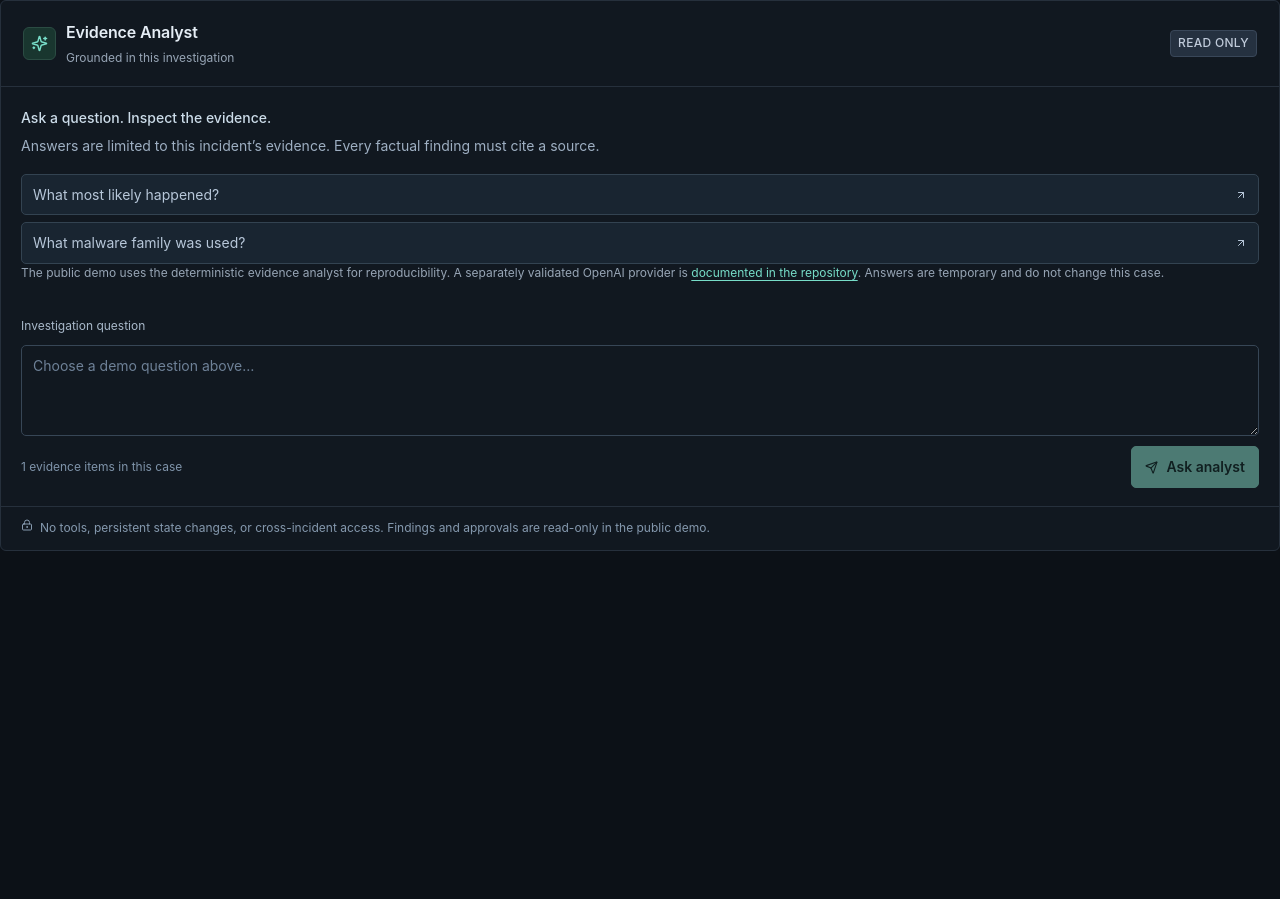
Test: offers curated deterministic questions and citations without a persistent finding action or refresh
Expected: the text "public demo uses the deterministic evidence analyst" is shown, [21,265,688,280]
Step 1. Click the button "What most likely happened?" → click(126, 194), box [21,174,1259,216]
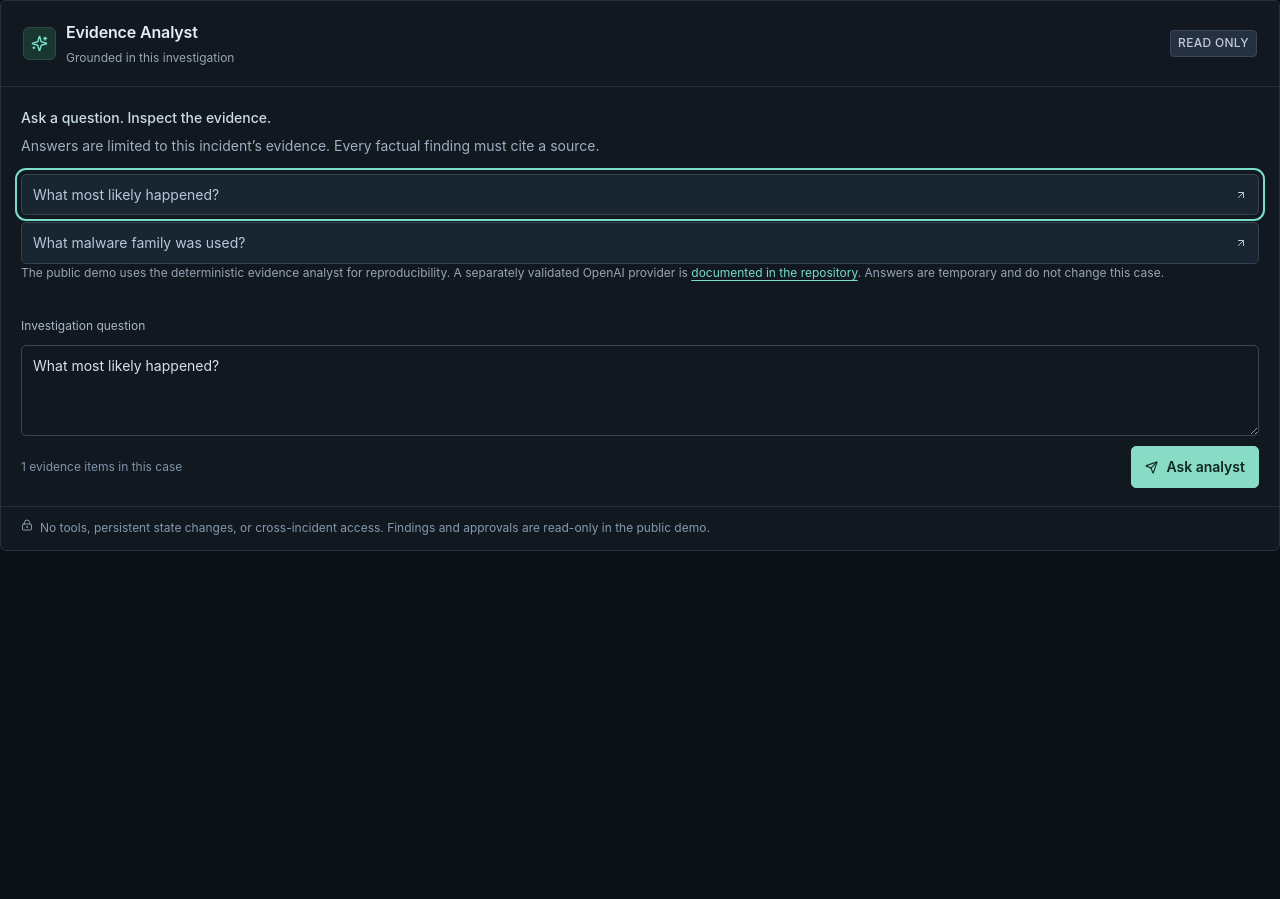
Step 2. Click the button "Ask analyst" → click(1195, 467), box [1131,446,1259,488]
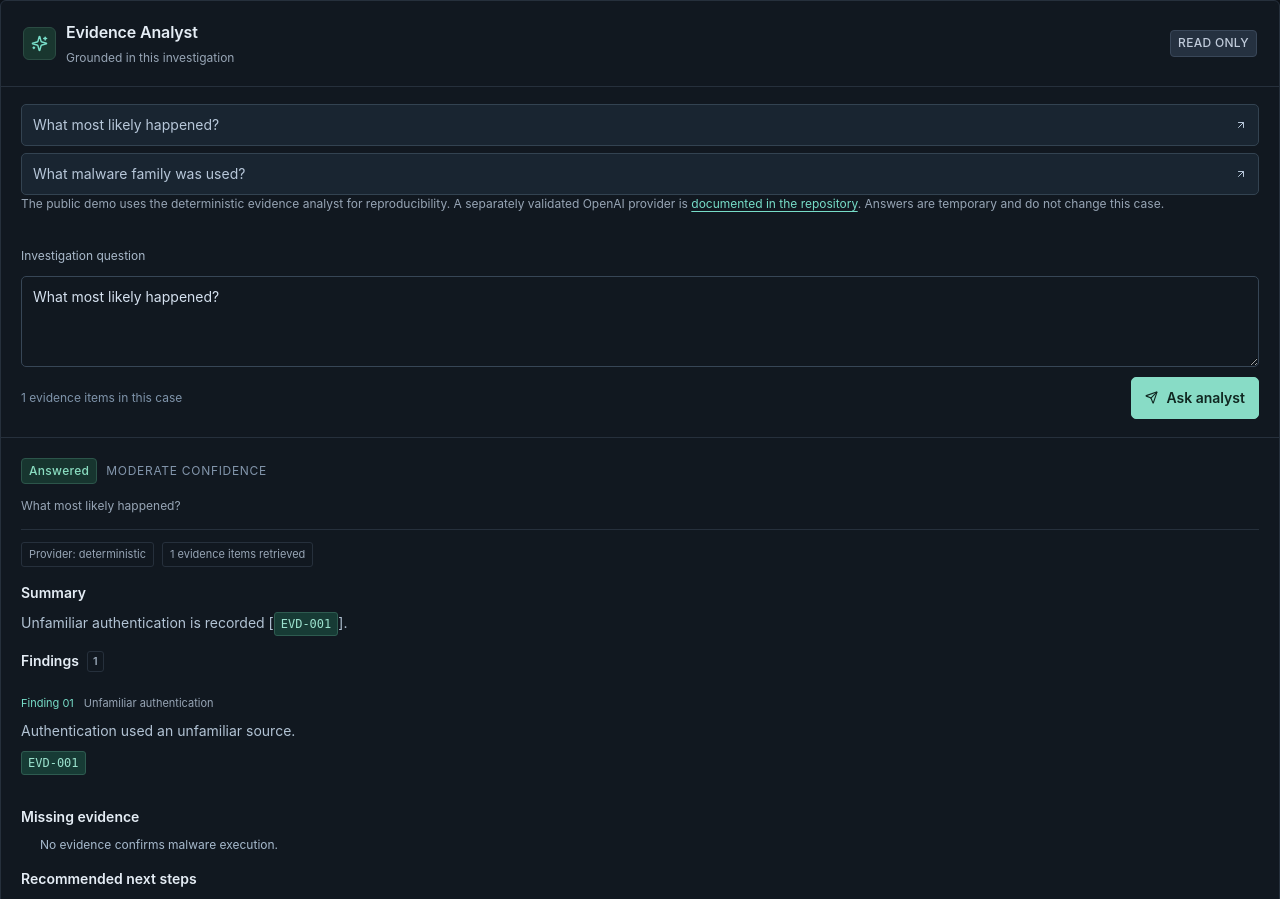
Expected: the text "Authentication used an unfamiliar source." is shown, [21,722,295,739]
Step 3. Click the button with aria-label "Inspect evidence EVD-001" → click(306, 624), box [274,612,338,636]
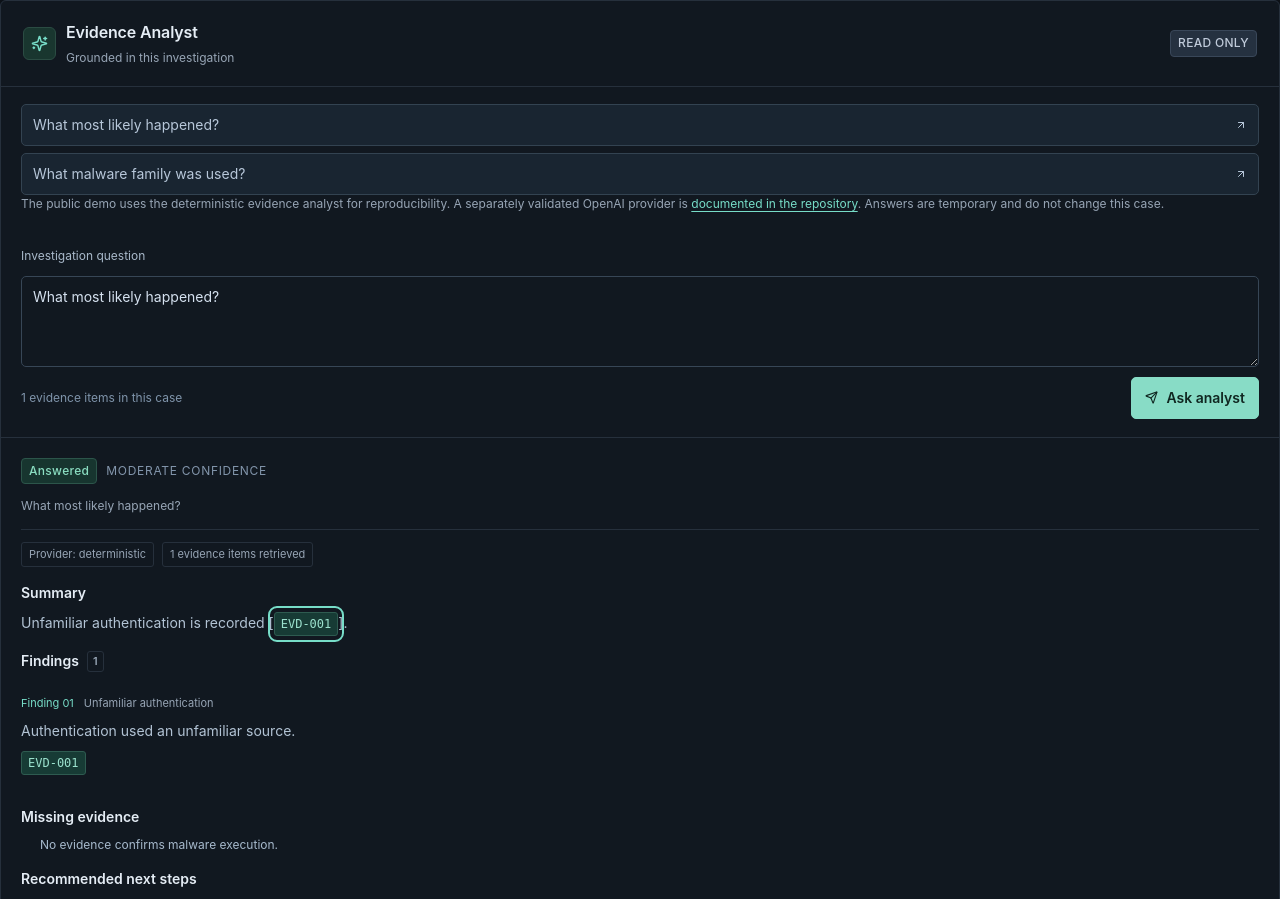
Step 4. Click the button "What malware family was used?" → click(139, 174), box [21,153,1259,195]
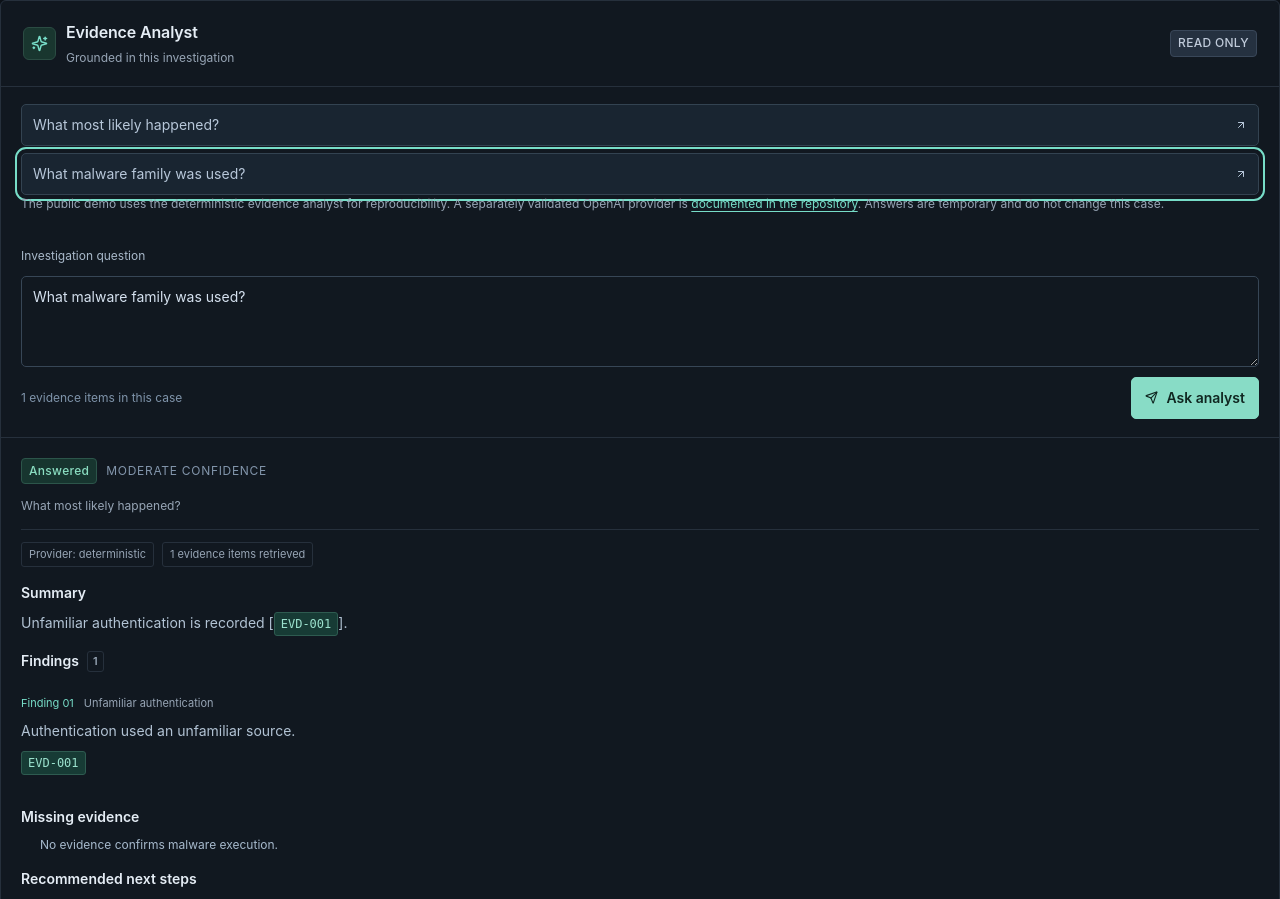
Step 5. Click the button "Ask analyst" → click(1195, 398), box [1131,377,1259,419]
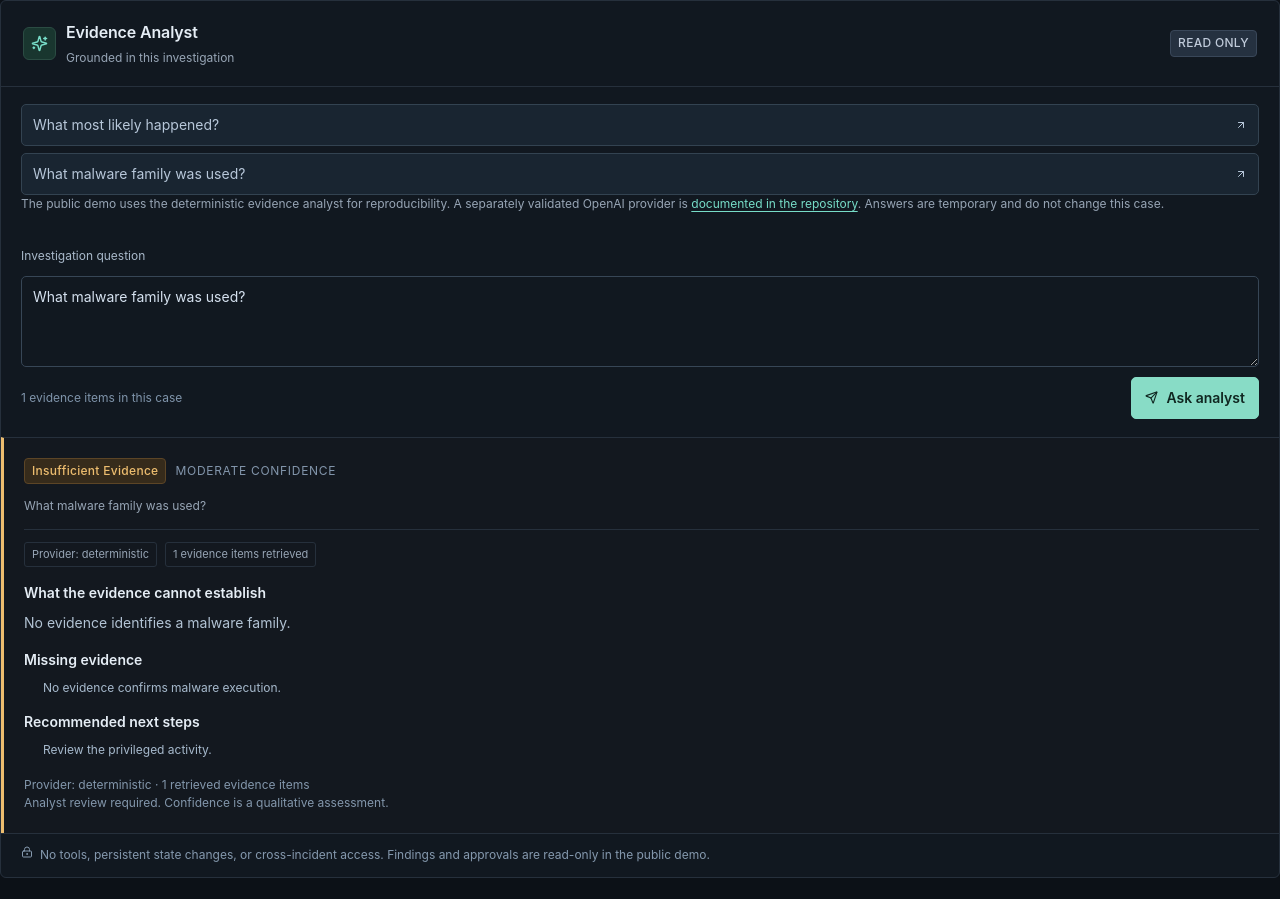
Expected: the text "Insufficient evidence" is shown, [24,458,166,484]
